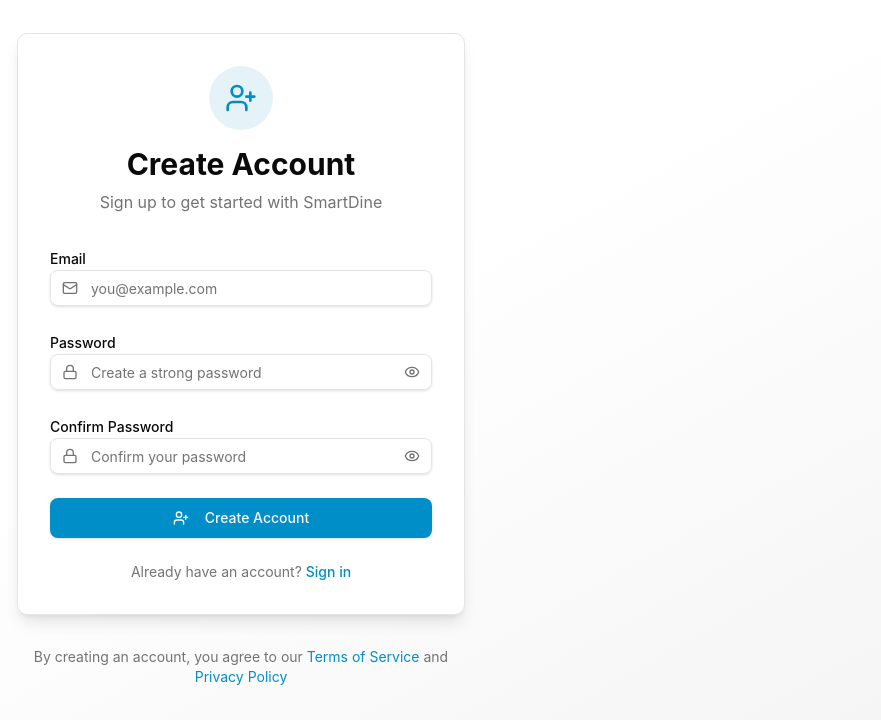
Register Page Integration › should display password requirements
Type "test" into the password field with placeholder "Create a strong password" at (241, 372), box x1=50 y1=354 x2=432 y2=390
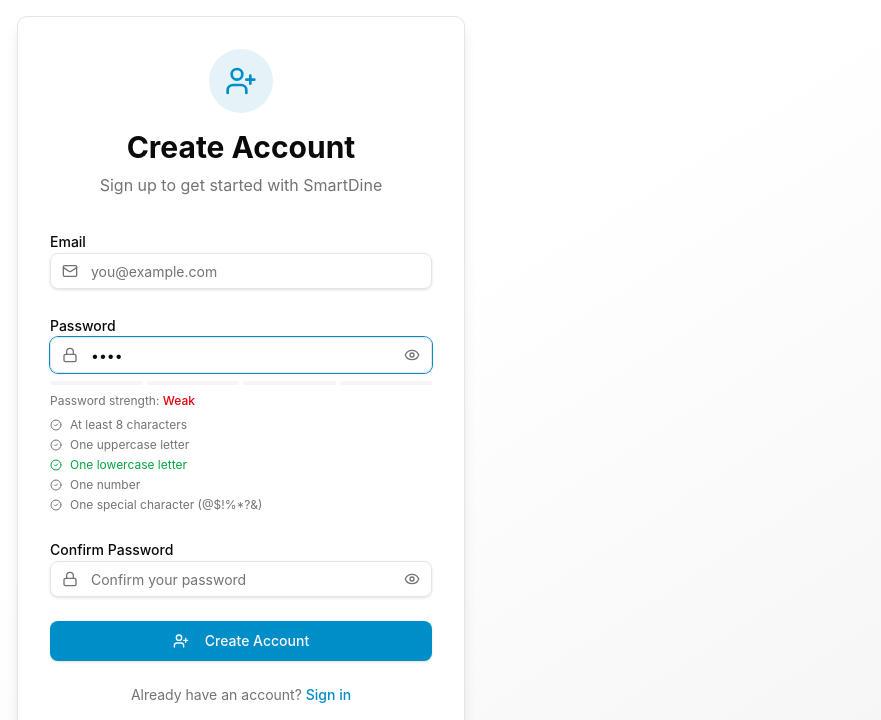
Expected: the text "At least 8 characters" is shown, x1=70 y1=417 x2=187 y2=433
Expected: the text "One uppercase letter" is shown, x1=70 y1=437 x2=189 y2=453
Expected: the text "One lowercase letter" is shown, x1=70 y1=457 x2=187 y2=473
